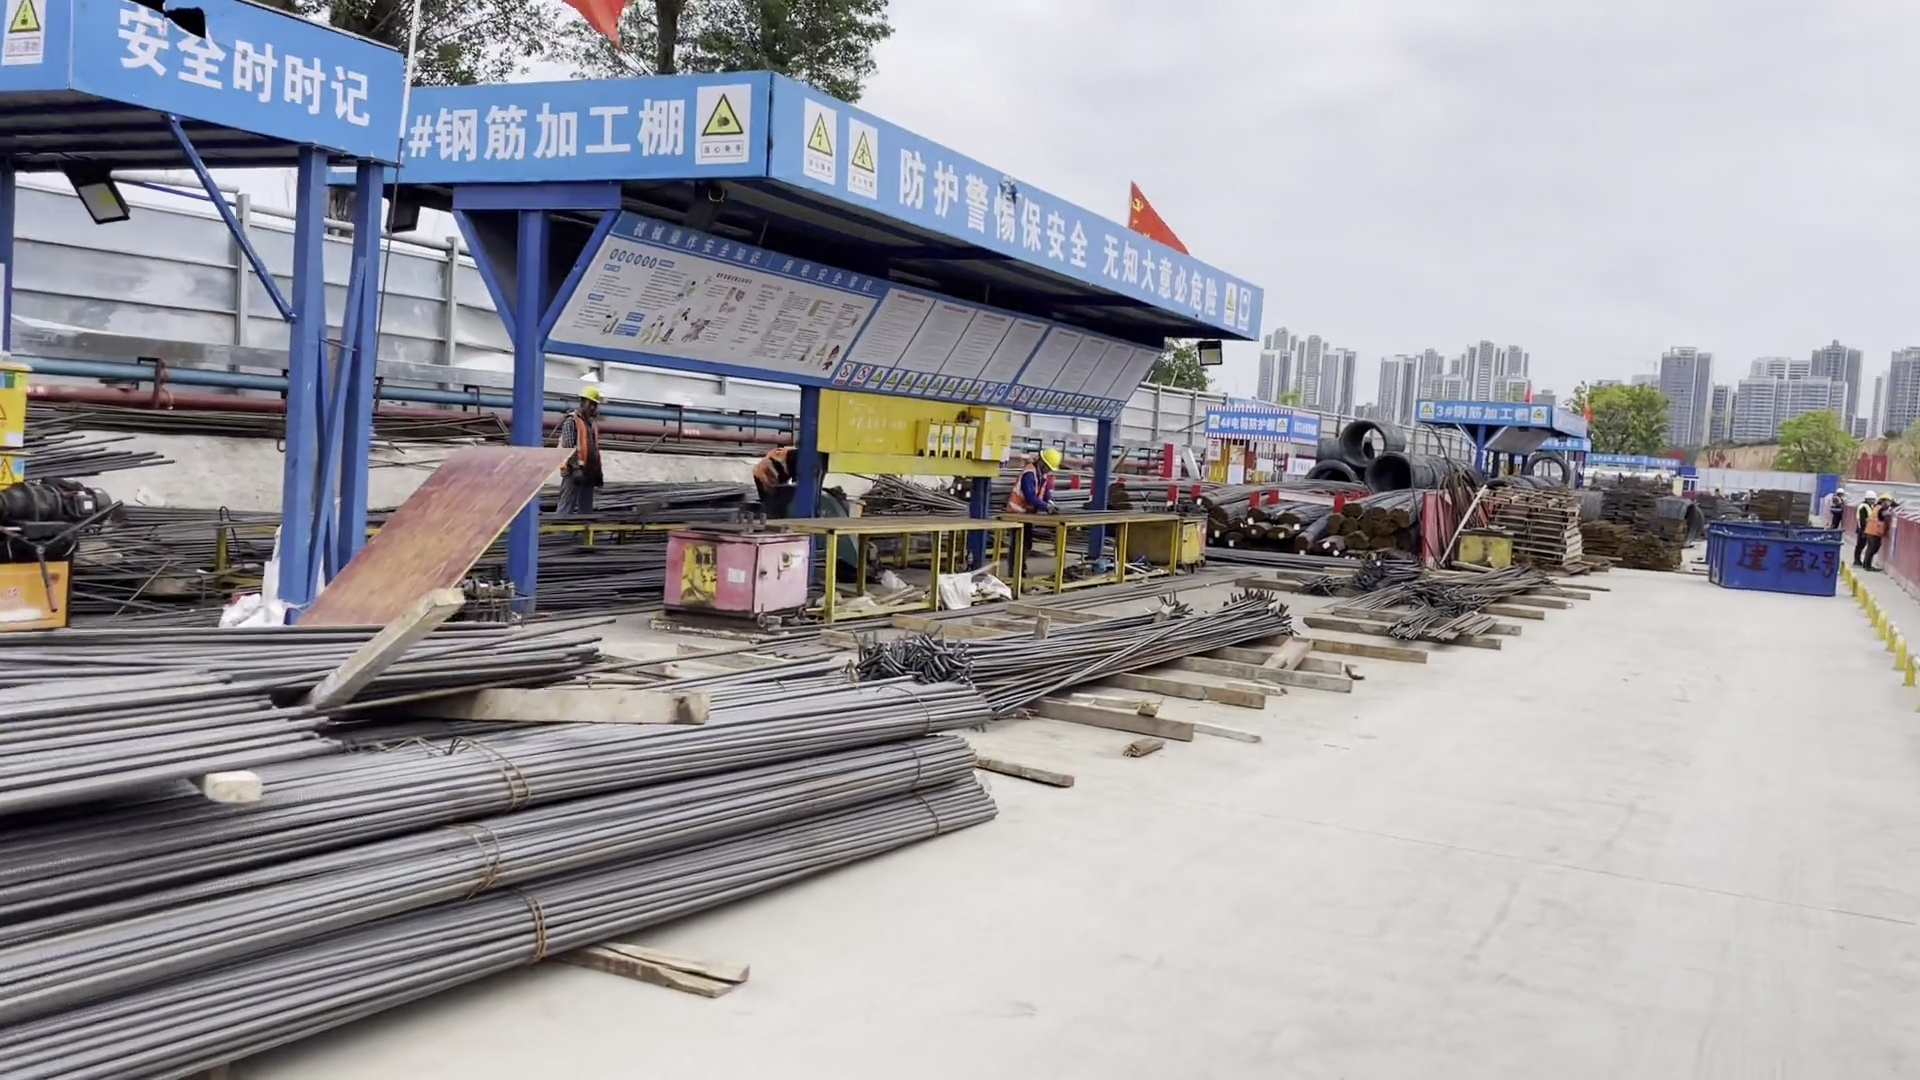ebox: (1, 354, 43, 475), (967, 393, 1017, 468)
helmet: (1041, 447, 1064, 471), (577, 387, 598, 403), (1879, 495, 1892, 502), (1863, 490, 1875, 499), (1835, 489, 1843, 495)
hopper: (1697, 516, 1844, 600)
person: (547, 390, 612, 516), (1006, 443, 1063, 508), (749, 442, 804, 502), (1869, 495, 1895, 576), (1856, 491, 1876, 559), (1831, 490, 1843, 530)
rebar: (1, 674, 997, 1070), (33, 593, 615, 720), (866, 576, 1296, 732), (1, 659, 321, 811), (30, 394, 189, 491), (1194, 479, 1366, 504), (1342, 487, 1427, 517), (1370, 491, 1423, 521), (1295, 516, 1328, 551), (1395, 495, 1431, 527), (1212, 501, 1253, 523), (1279, 504, 1331, 521), (1250, 501, 1286, 521), (1326, 516, 1359, 536), (1265, 524, 1299, 542), (1371, 516, 1400, 537), (1373, 531, 1408, 549), (1314, 537, 1344, 556), (1206, 521, 1232, 538), (1244, 522, 1270, 538), (1346, 531, 1370, 549), (1223, 533, 1247, 549)
slogan: (898, 145, 1218, 331), (111, 5, 381, 134)
vest: (563, 415, 601, 480), (753, 446, 799, 490), (1012, 466, 1050, 508)
